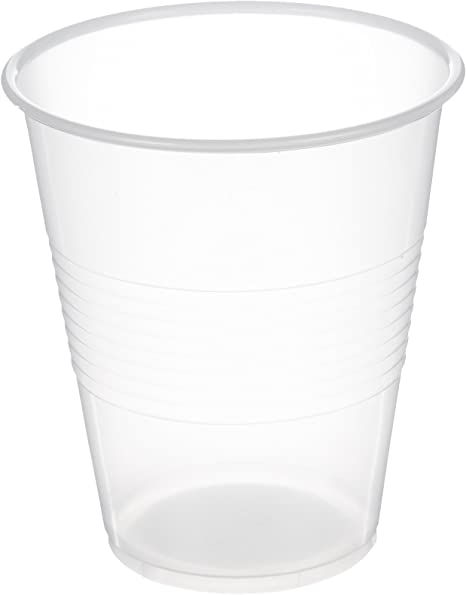plastic_glass: (1, 1, 466, 595)
